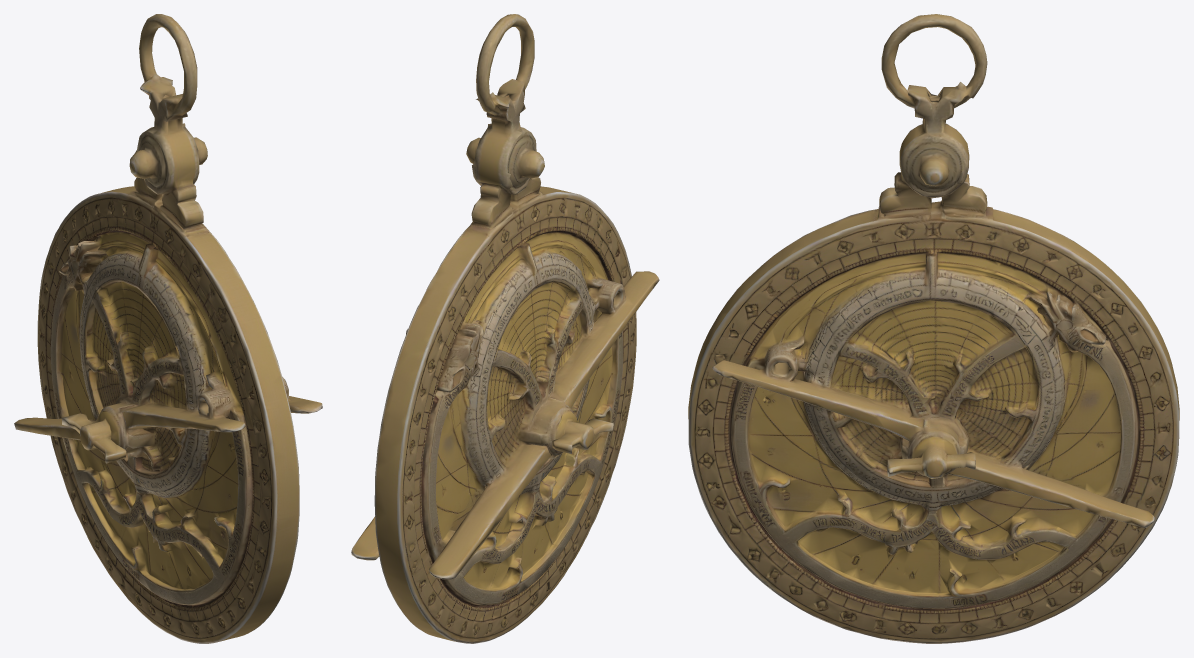
The model's file is studio-astrolabe.glb.
3 renders of one model, left to right at view 1: azimuth 30°, elevation 25°; view 2: azimuth 150°, elevation 25°; view 3: azimuth 270°, elevation 25°, orthographic. The views are drawn at different scales.
Visible parts, largest first — view 1: tripo_node_630fd257-4962-429d-b44a-b912c4286806; view 2: tripo_node_630fd257-4962-429d-b44a-b912c4286806; view 3: tripo_node_630fd257-4962-429d-b44a-b912c4286806.
Part boxes in pixels (x1,y1,x2,y2): tripo_node_630fd257-4962-429d-b44a-b912c4286806: [14, 14, 322, 643]; tripo_node_630fd257-4962-429d-b44a-b912c4286806: [351, 14, 659, 643]; tripo_node_630fd257-4962-429d-b44a-b912c4286806: [688, 14, 1179, 643].
Bounding box in the file's own units: 0.2994 × 1 × 0.7134.
Materials: 1 (1 with a texture image).
